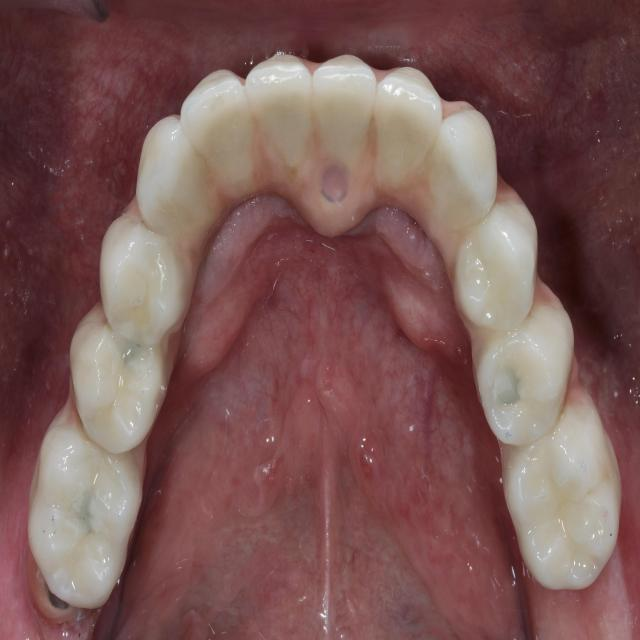Caries: (48, 587, 69, 609)
Cavity: (49, 464, 100, 545), (112, 282, 150, 333)
Tooth: (505, 404, 622, 590), (27, 424, 143, 610), (476, 303, 574, 445), (70, 320, 167, 454), (99, 211, 187, 348), (453, 198, 538, 331), (136, 117, 211, 235), (372, 67, 443, 187), (180, 71, 253, 185), (429, 110, 497, 230), (312, 61, 377, 172), (245, 62, 313, 166)
